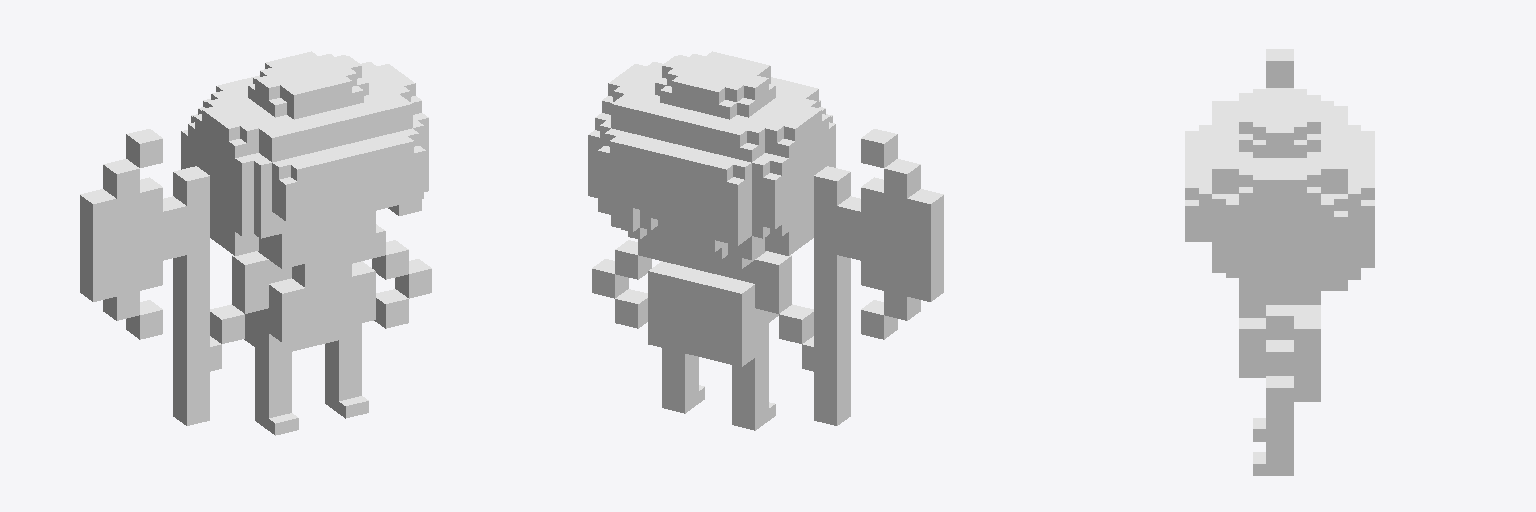
The model's file is Vakt1.obj.
The picture shows the model from 3 angles: view 1: azimuth 30°, elevation 25°; view 2: azimuth 150°, elevation 25°; view 3: azimuth 270°, elevation 25°; orthographic projection.
Visible parts, largest first — view 1: object 1; view 2: object 1; view 3: object 1.
Boxes of the visible parts, x1,y1,x2,y2 form: object 1: [80, 51, 431, 435]; object 1: [588, 51, 943, 430]; object 1: [1185, 49, 1374, 475].
Bounding box in the file's own units: 2.9 × 2.8 × 1.4.